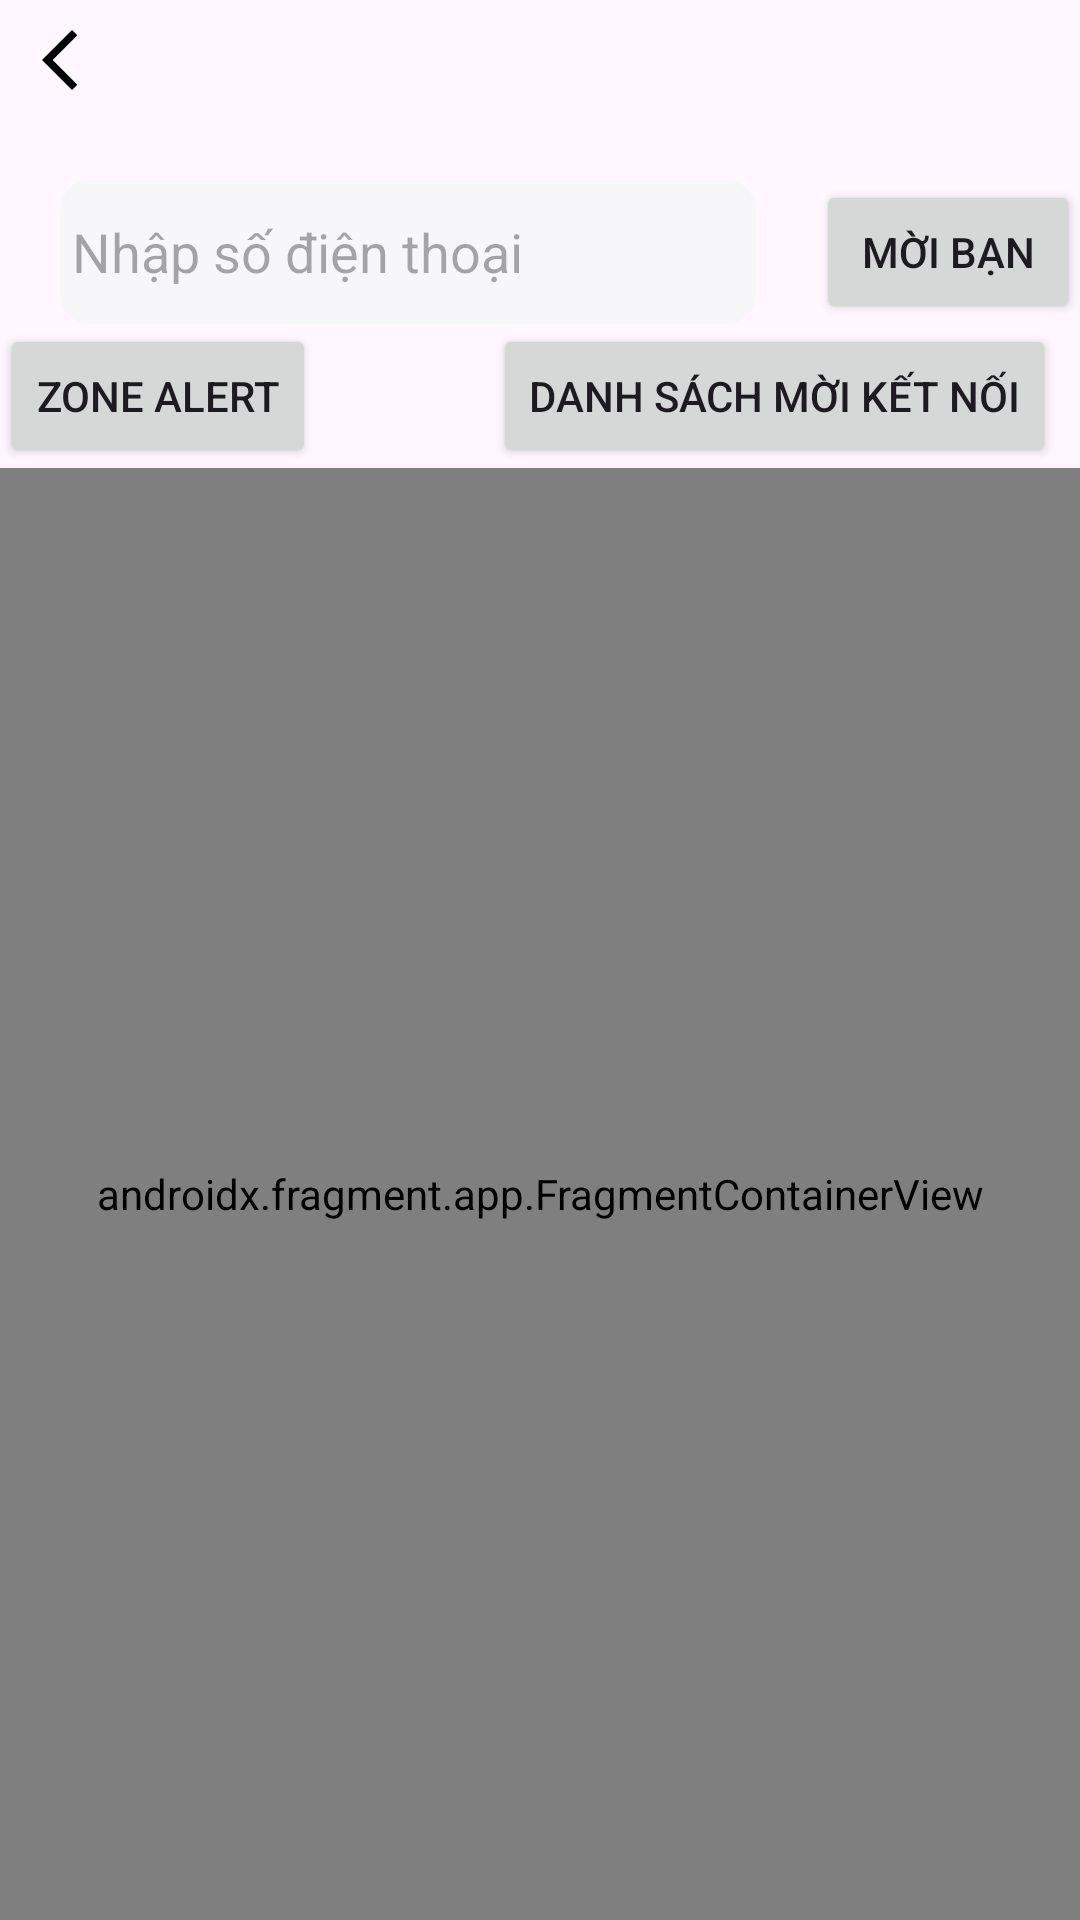

Locate icon controls on the screen. Image size 1080×1920, boxes as bbox=[x1, y1, x2, y2].
back: bbox=[42, 30, 77, 90]
